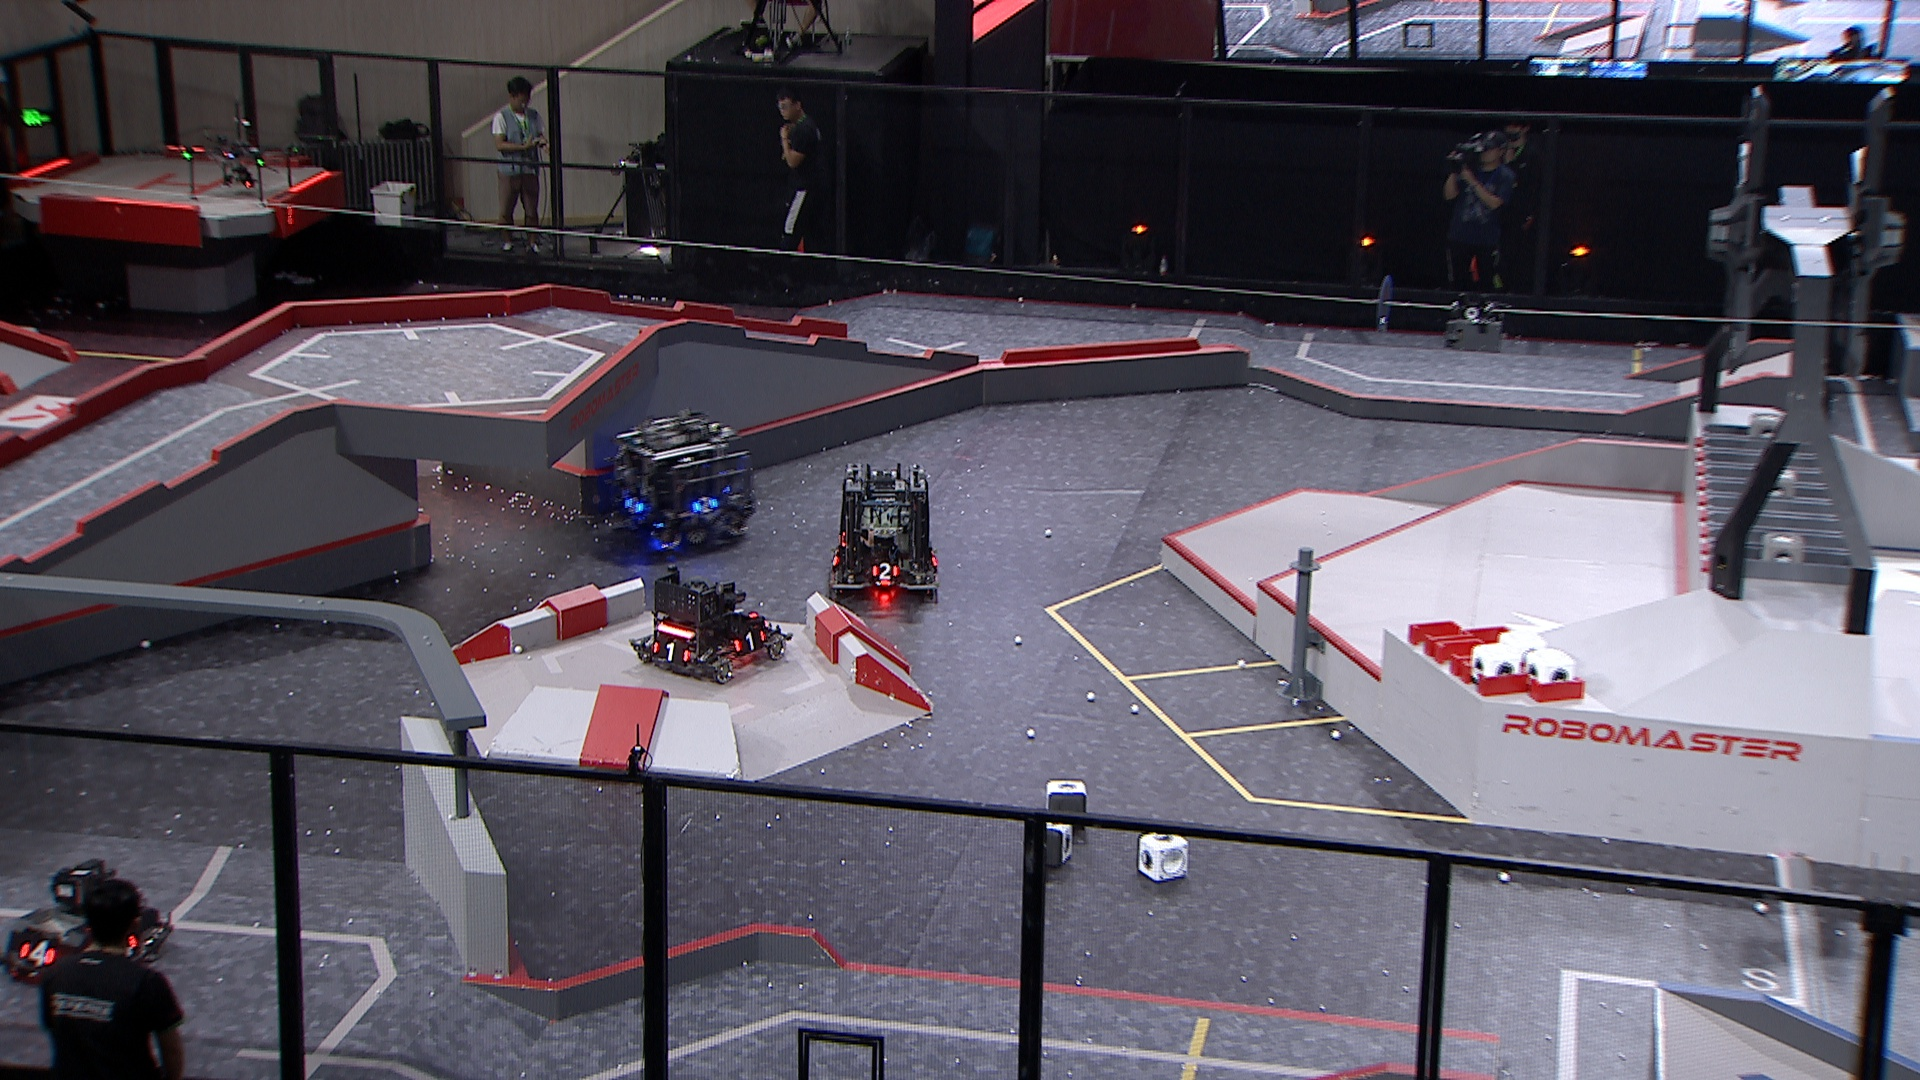armor: (18, 943, 57, 967), (651, 638, 686, 665), (736, 629, 767, 650), (728, 604, 757, 622), (695, 495, 717, 513), (621, 498, 644, 513), (874, 564, 897, 579), (827, 550, 844, 568)
car: (597, 407, 761, 553), (1, 858, 173, 996), (626, 564, 789, 678), (825, 452, 942, 609)
